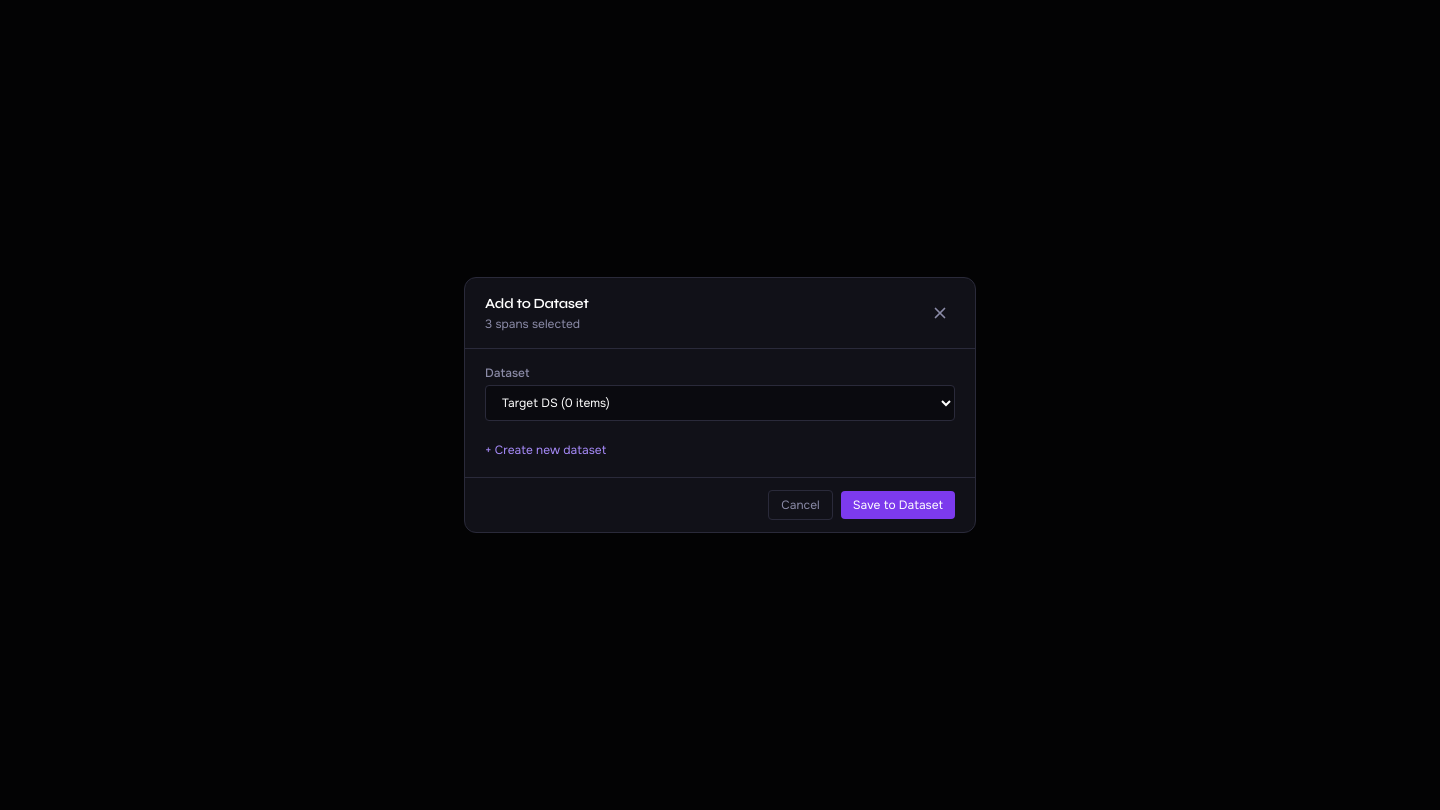
BulkAddToDatasetModal › shows error when save fails
This screenshot has width=1440, height=810.
Select "Target DS (0 items)" in the dropdown. click: coordinates (720, 403)
box: [485,385,955,421]
# Trigger a save
Click the button "Save to Dataset". click: coordinates (898, 505)
box: [841,491,955,519]
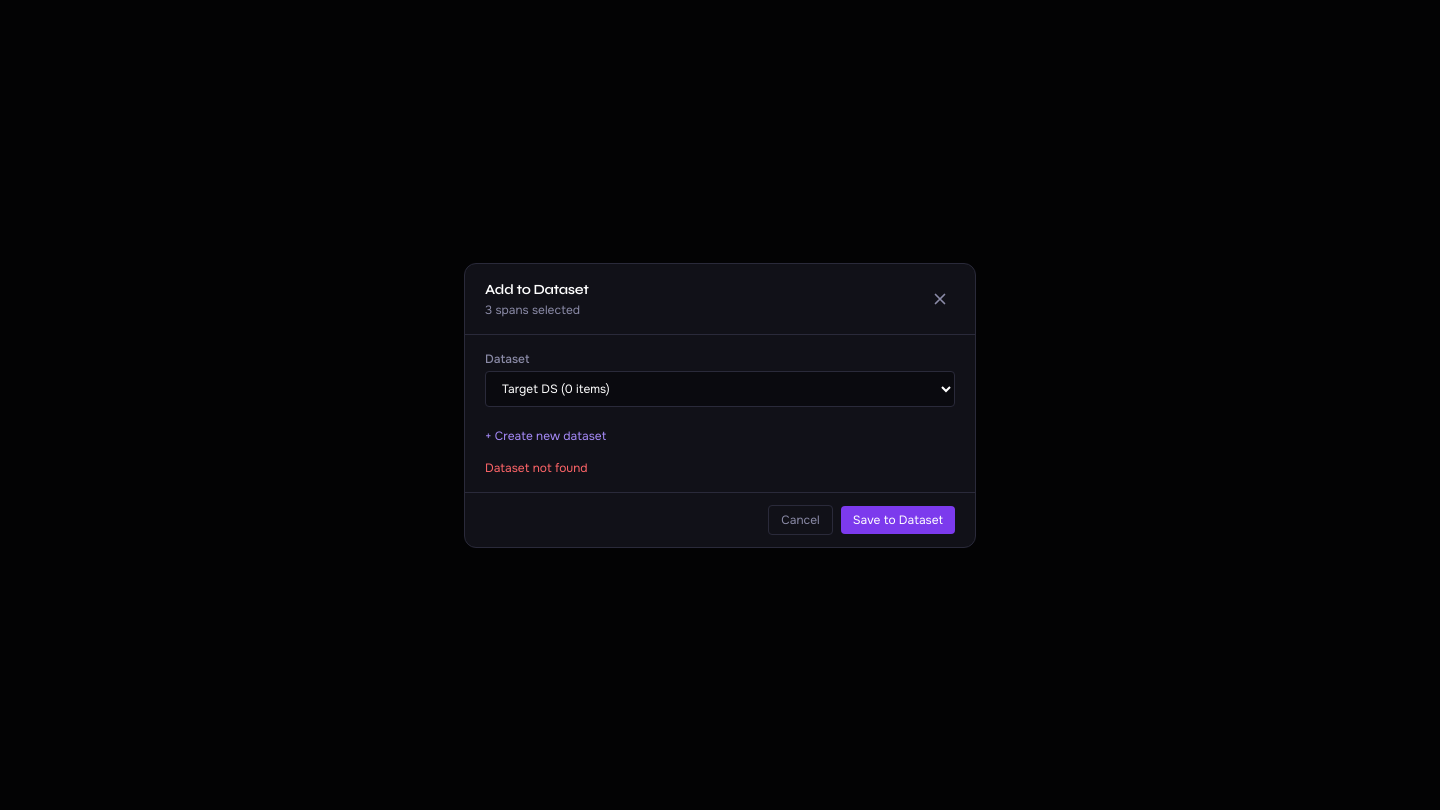
expect the text "Dataset not found" is shown: met, box [485,460,588,476]
